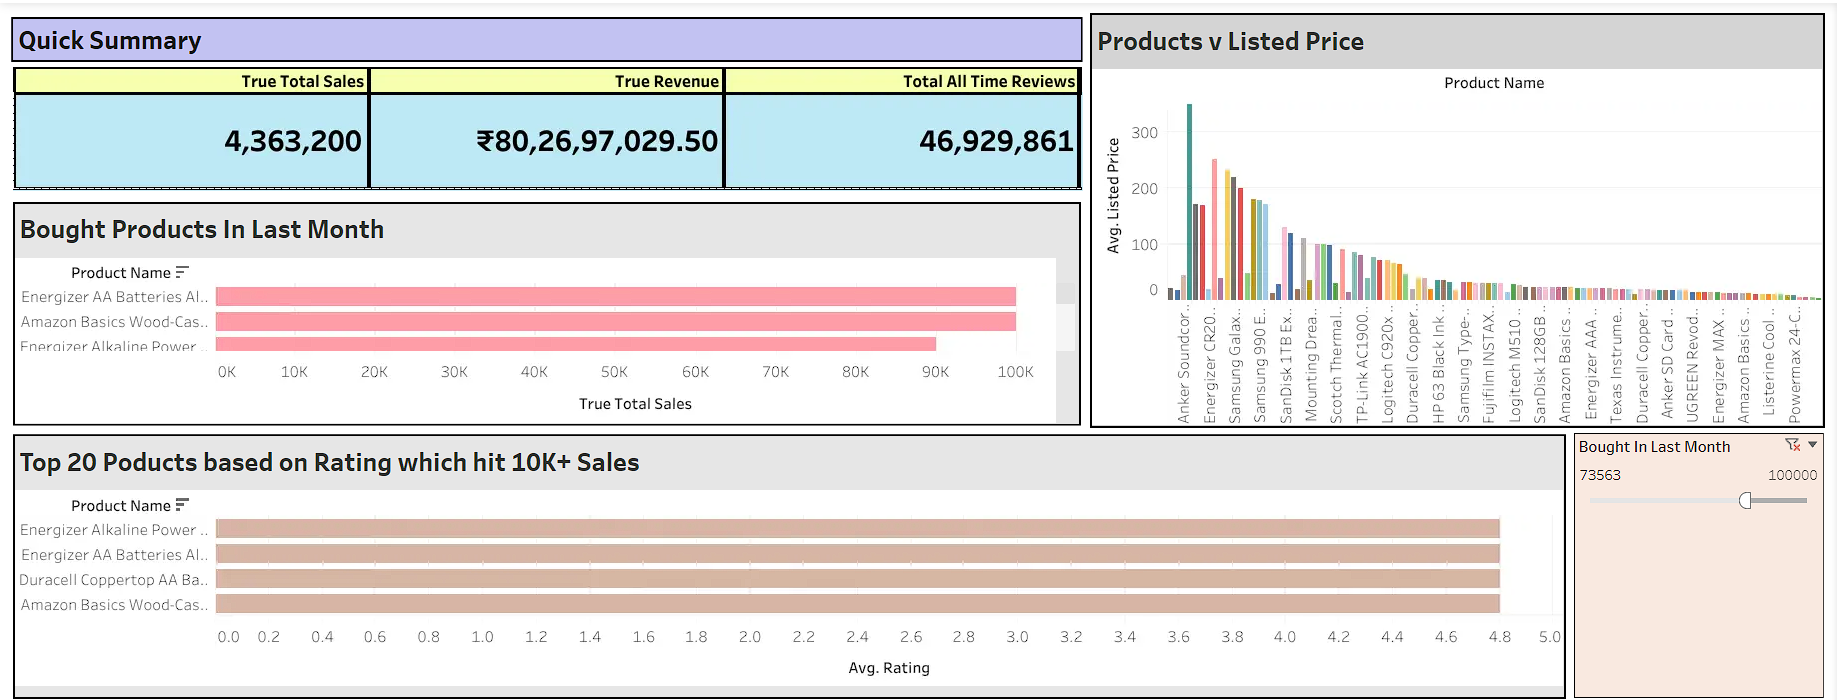

What the dashboard file says about the page in this screenshot:
{"tool":"tableau","page":{"name":"Dashboard 1","canvas":[1000,1000],"units":"permille","ordinal":0},"visuals":[{"type":"worksheet","title":"Sheet 4","mark":"Automatic","rows":["listed_price"],"cols":["Cleaned Title"],"box":[593,10.6,399.2,591.1]},{"type":"worksheet","title":"Sheet 5","mark":"Automatic","box":[6.1,16.7,582.6,246.8]},{"type":"worksheet","title":"Sheet 1","mark":"Bar","rows":["Cleaned Title"],"cols":["Calculation_0496706272567300"],"box":[6.9,280.2,581.1,317.2]},{"type":"filter","title":"Sheet 2","param":"[federated.1568vqw0vvdykz11fz6u30wcc14z].[none:bought_in_last_month:qk]","box":[856.1,608.5,135.6,376.6]},{"type":"worksheet","title":"Sheet 2","mark":"Automatic","rows":["Cleaned Title"],"cols":["rating"],"box":[6.9,610.4,844.6,376.6]}]}

Visuals, with their boxes on the dashboard's canvas, which has no fixed pixel size, in thousandths of its width and height (x1, y1, x2, y2). These are canvas units, not pixel positions in the 1837x700 screenshot, which may show the page scaled, cropped or inside an application window:
"Sheet 4" worksheet: Rect(593, 11, 992, 602)
"Sheet 5" worksheet: Rect(6, 17, 589, 264)
"Sheet 1" worksheet (Bar marks): Rect(7, 280, 588, 597)
"Sheet 2" filter: Rect(856, 608, 992, 985)
"Sheet 2" worksheet: Rect(7, 610, 852, 987)
